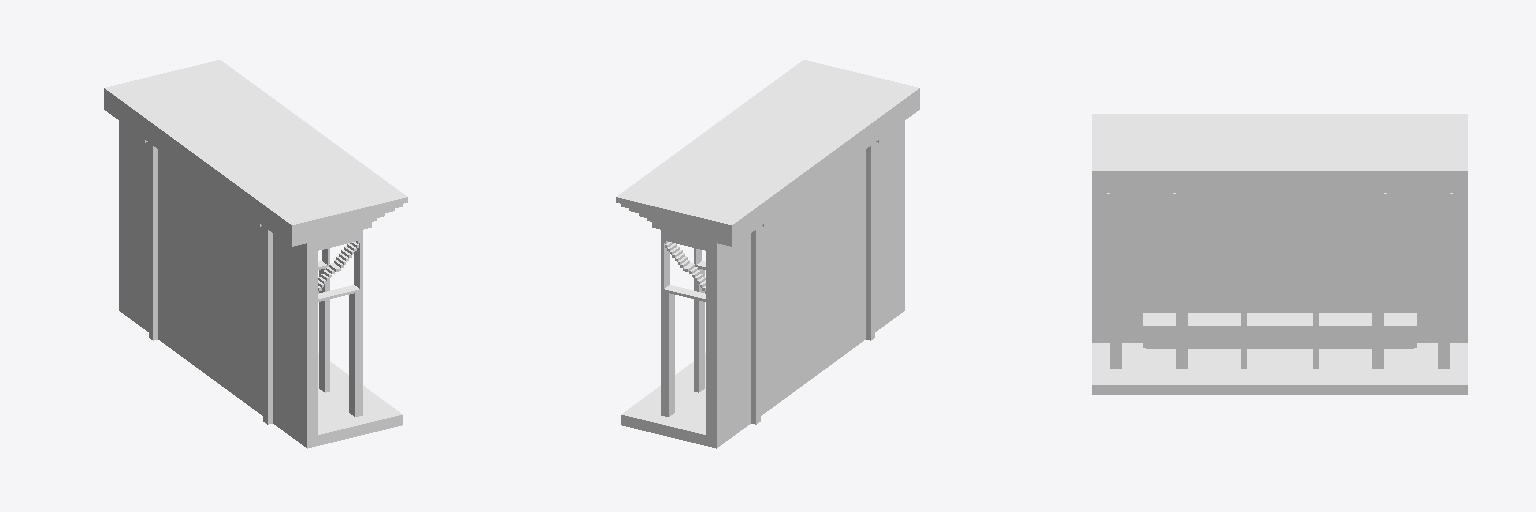
File: BusStation1.obj
3 renders of one model, left to right at view 1: azimuth 30°, elevation 25°; view 2: azimuth 150°, elevation 25°; view 3: azimuth 270°, elevation 25°, orthographic.
Parts seen in each view (by area): view 1: BusStation1; view 2: BusStation1; view 3: BusStation1.
Part boxes in pixels (x1,y1,x2,y2): BusStation1: (104, 60, 407, 448); BusStation1: (616, 60, 919, 448); BusStation1: (1092, 114, 1467, 394).
Bounding box in the file's own units: 45 × 84 × 126.